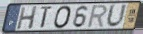6: (72, 5, 89, 29)
H: (16, 5, 39, 31)
O: (53, 5, 73, 30)
R: (86, 4, 109, 30)
T: (40, 5, 54, 30)
U: (105, 3, 128, 29)
